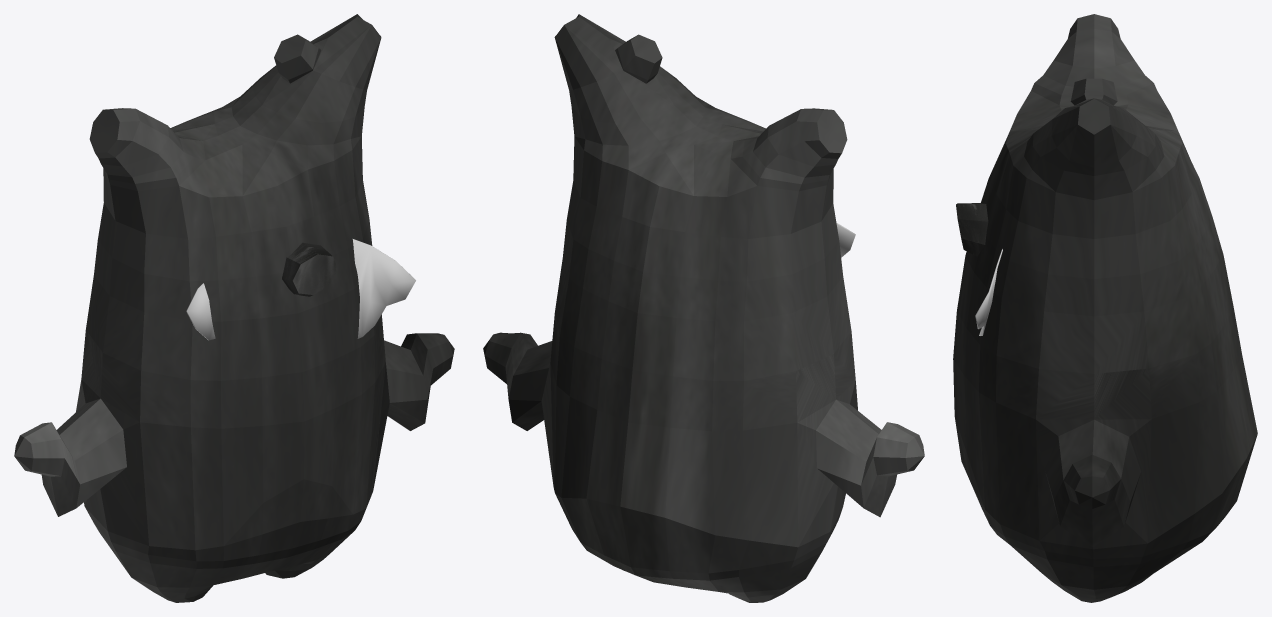
Rendered from frame_0005.obj.
The picture shows the model from 3 angles, left to right: view 1: azimuth 30°, elevation 25°; view 2: azimuth 150°, elevation 25°; view 3: azimuth 270°, elevation 25°; orthographic projection.
Visible parts, largest first — view 1: korok, leaf, nose; view 2: korok; view 3: korok, nose, leaf.
Boxes of the visible parts, x1,y1,x2,y2 form: korok: (14,14,454,602); leaf: (186,239,415,340); nose: (282,242,337,296); korok: (483,14,924,602); korok: (953,14,1257,602); nose: (956,203,988,256); leaf: (975,249,1002,335).
Size of the model in its own units: 2.01 by 2.35 by 1.21.
